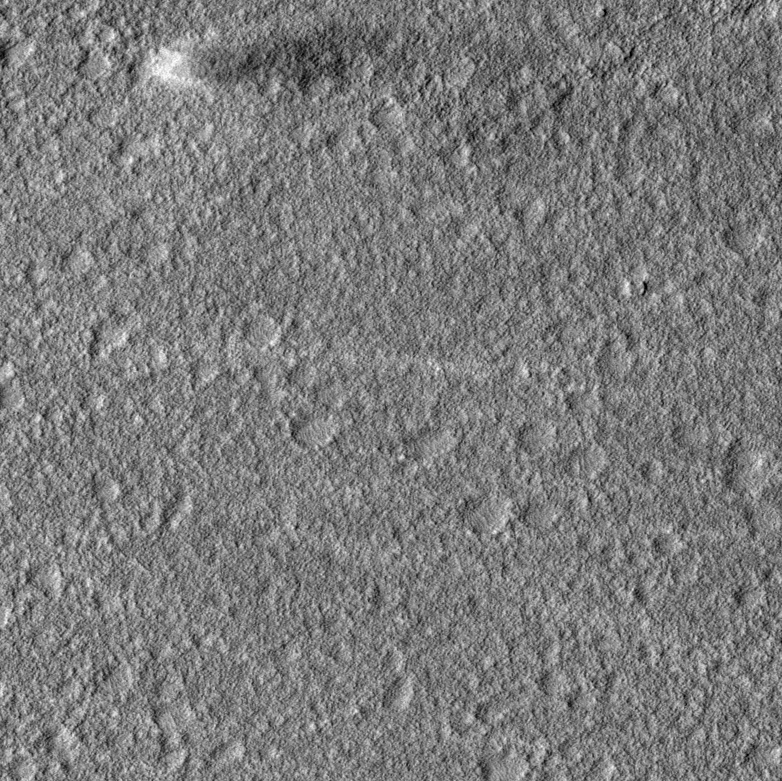dust_devil: (146, 17, 370, 99)
